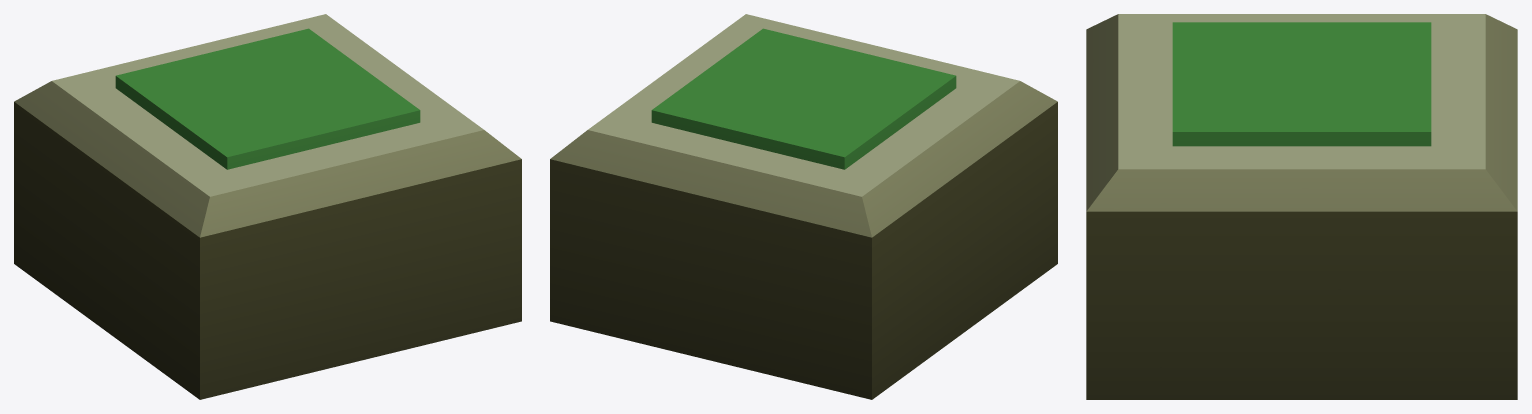
File: nuclear-reactor.glb
3 views of the same model, side by side, from view 1: azimuth 30°, elevation 25°; view 2: azimuth 150°, elevation 25°; view 3: azimuth 270°, elevation 25° (orthographic). The views are drawn at different scales.
Parts seen in each view (by area): view 1: nuclear-reactor; view 2: nuclear-reactor; view 3: nuclear-reactor.
Part boxes in pixels (bbox=[...]): nuclear-reactor: bbox=[14, 14, 521, 399]; nuclear-reactor: bbox=[550, 14, 1057, 399]; nuclear-reactor: bbox=[1086, 14, 1517, 399].
Bounding box in the file's own units: 0.27 × 0.16 × 0.27.
